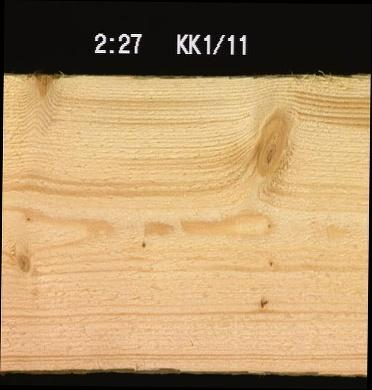small_knot: (251, 291, 275, 312), (255, 213, 279, 233), (262, 254, 276, 274), (20, 209, 36, 224), (138, 236, 152, 251)
sound_knot: (9, 242, 38, 276)
